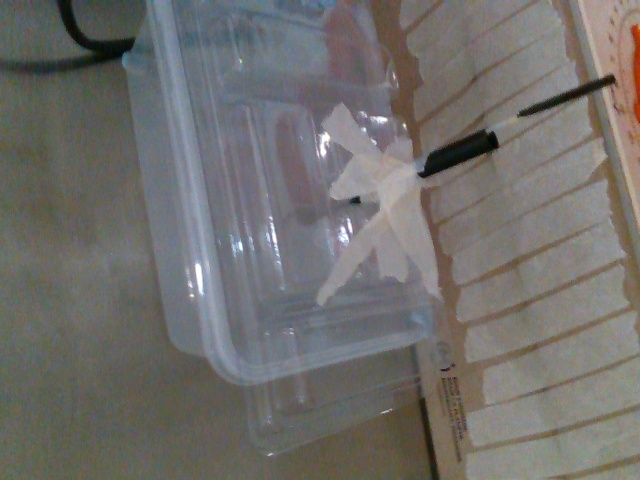test_strip: (481, 75, 613, 133)
